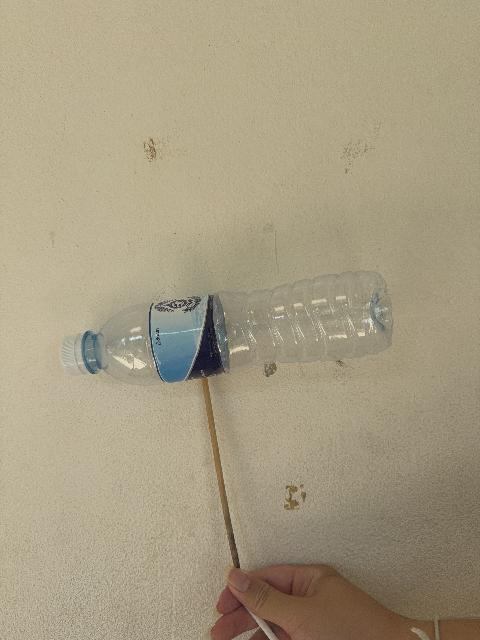bottle: (61, 272, 392, 384)
